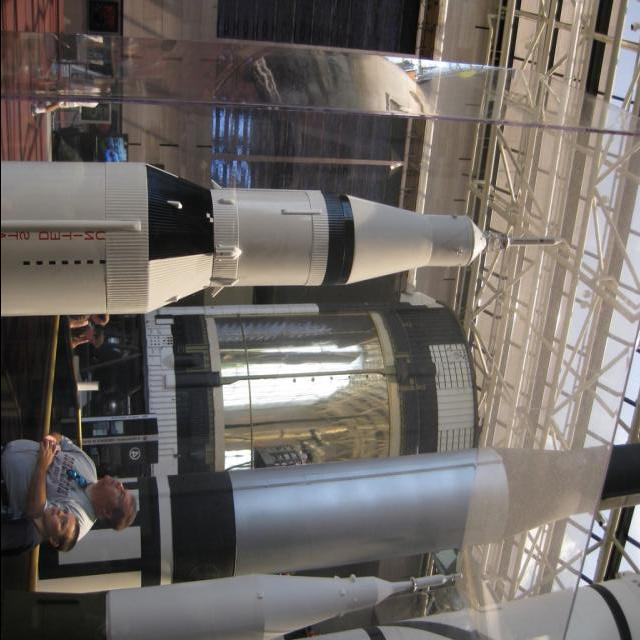Missile: (0, 133, 490, 332), (2, 572, 459, 640)
